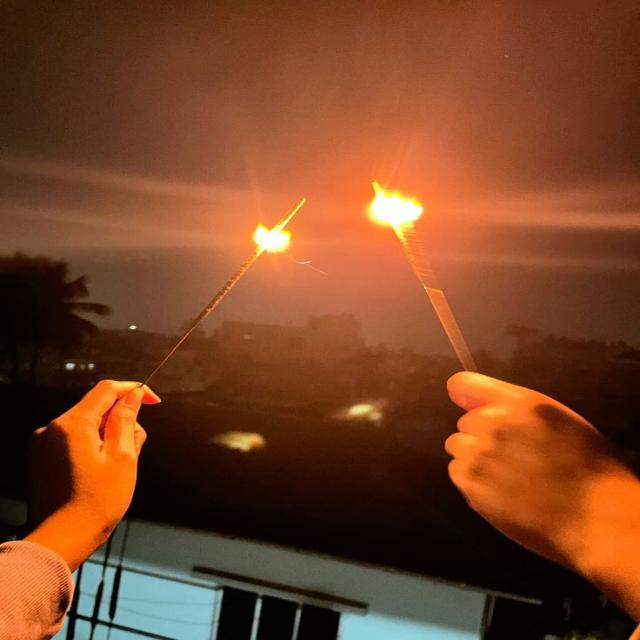fire: (367, 190, 425, 231), (251, 223, 292, 255)
